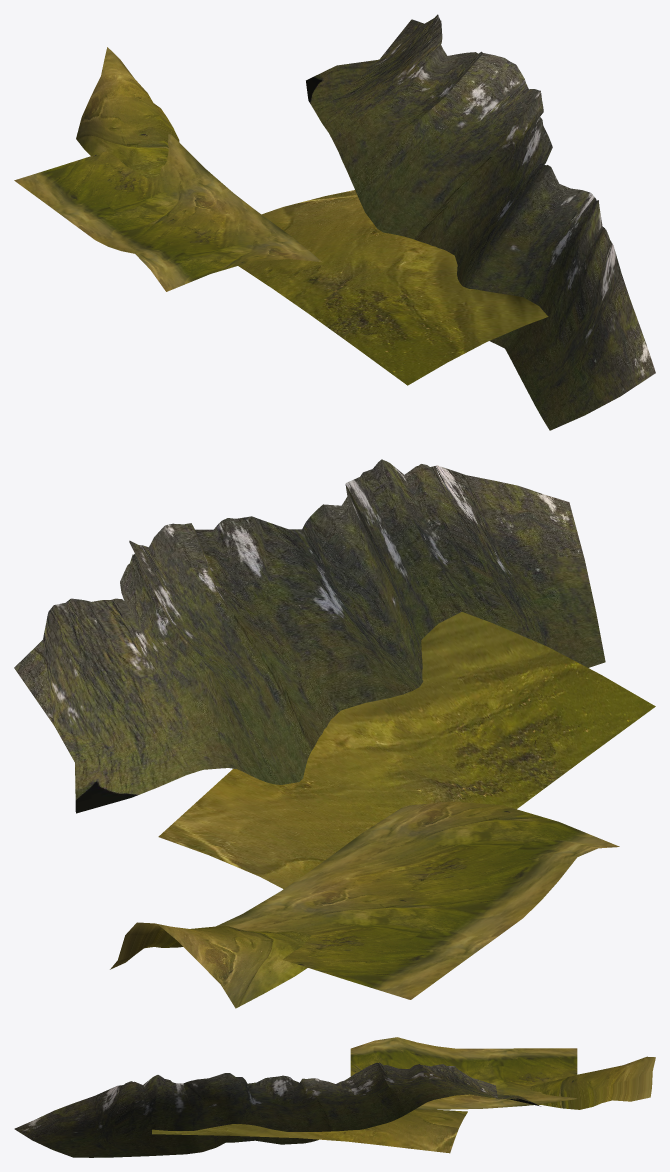
File: capital-min.glb
3 renders of one model, top to bottom at view 1: azimuth 30°, elevation 25°; view 2: azimuth 150°, elevation 25°; view 3: azimuth 270°, elevation 25°, orthographic. The views are drawn at different scales.
Visible parts, largest first — view 1: capitalMGmountains, capital-prairie; view 2: capitalMGmountains, capital-prairie; view 3: capitalMGmountains, capital-prairie.
Boxes of the visible parts, x1,y1,x2,y2 form: capitalMGmountains: [306, 14, 655, 430]; capital-prairie: [14, 47, 548, 385]; capitalMGmountains: [14, 459, 605, 813]; capital-prairie: [110, 612, 655, 1008]; capitalMGmountains: [14, 1062, 540, 1157]; capital-prairie: [152, 1037, 655, 1153].
Size of the model in its own units: 215 by 113 by 454.
2 materials, 2 textured.
